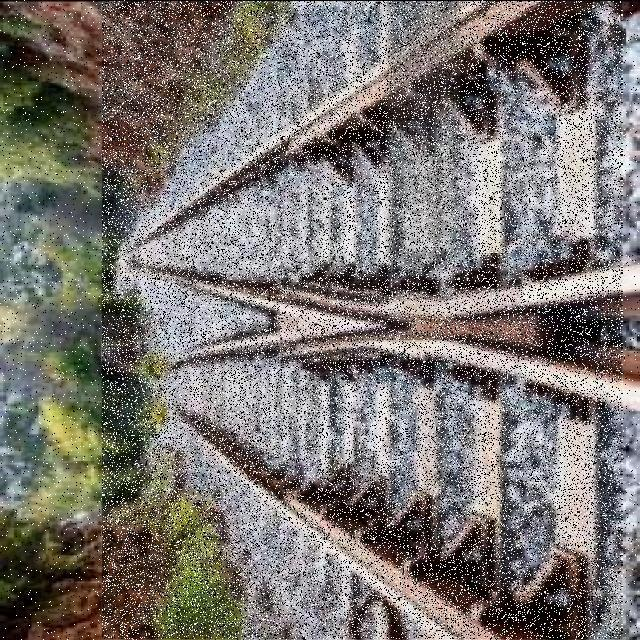rail: (104, 2, 623, 640)
